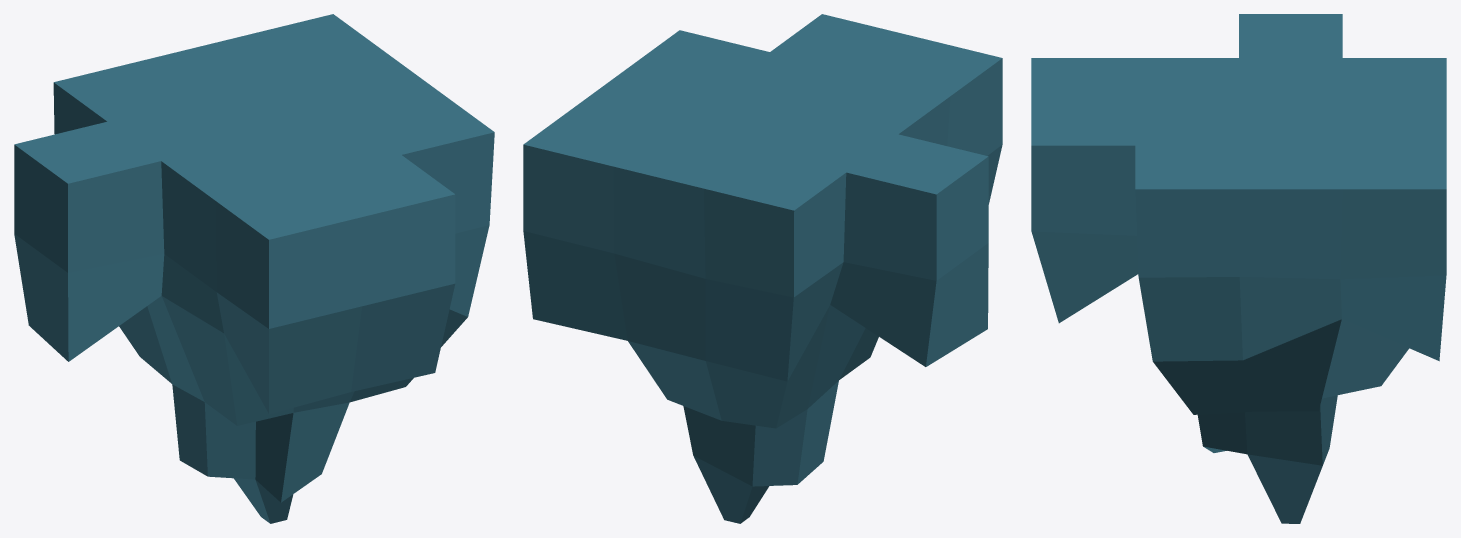
File: FloatingIslandS1.fbx
3 views of the same model, side by side, from view 1: azimuth 30°, elevation 25°; view 2: azimuth 150°, elevation 25°; view 3: azimuth 270°, elevation 25° (orthographic). The views are drawn at different scales.
Parts seen in each view (by area): view 1: Cube.001; view 2: Cube.001; view 3: Cube.001.
Boxes of the visible parts, <box> form: Cube.001: <box>14,14,494,523</box>; Cube.001: <box>523,14,1002,523</box>; Cube.001: <box>1031,14,1446,523</box>.
Bounding box in the file's own units: 26.78 × 28.23 × 26.78.
Materials: 1 (1 with a texture image).
